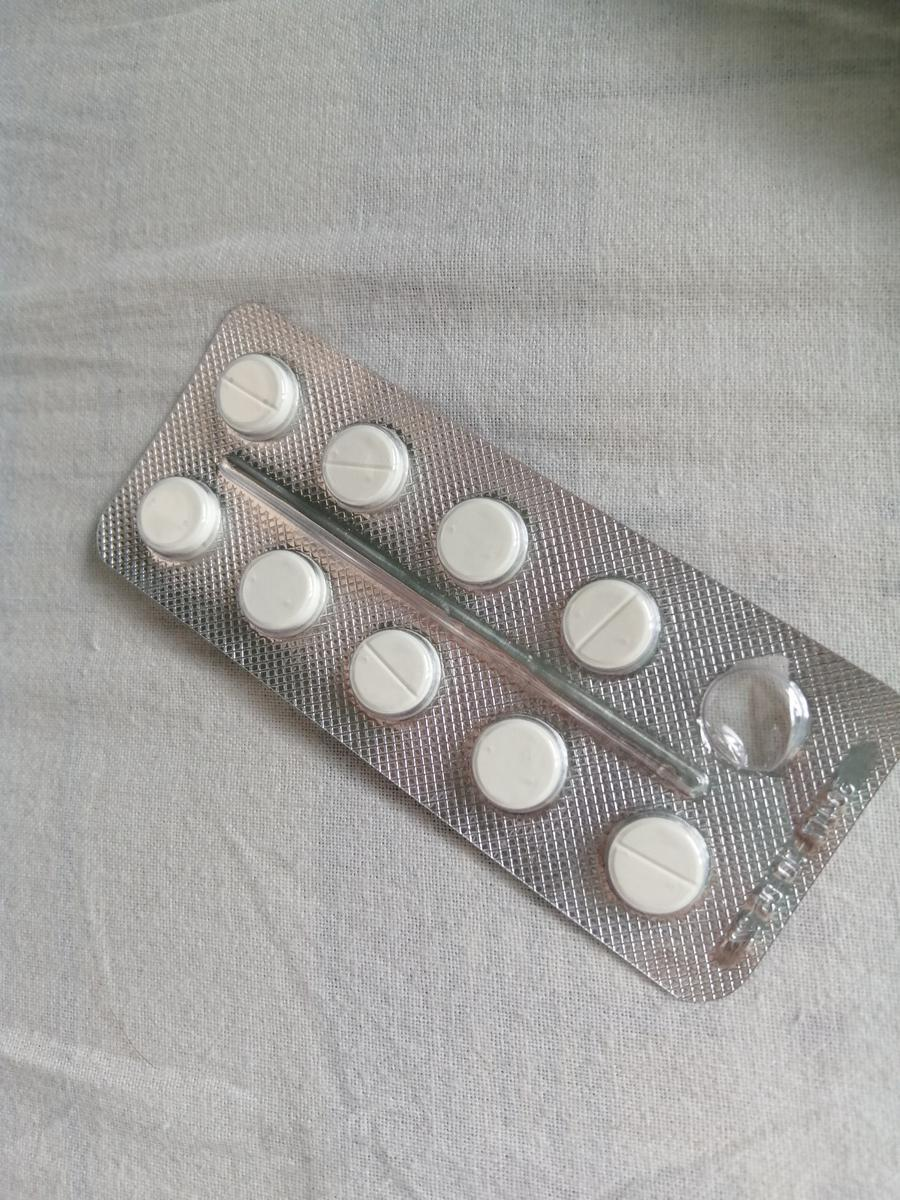tablet: (602, 810, 711, 918), (467, 714, 574, 816), (561, 574, 660, 672), (434, 493, 532, 591), (347, 624, 444, 720), (319, 423, 410, 510), (215, 352, 305, 438), (240, 546, 326, 636), (138, 476, 221, 558)
